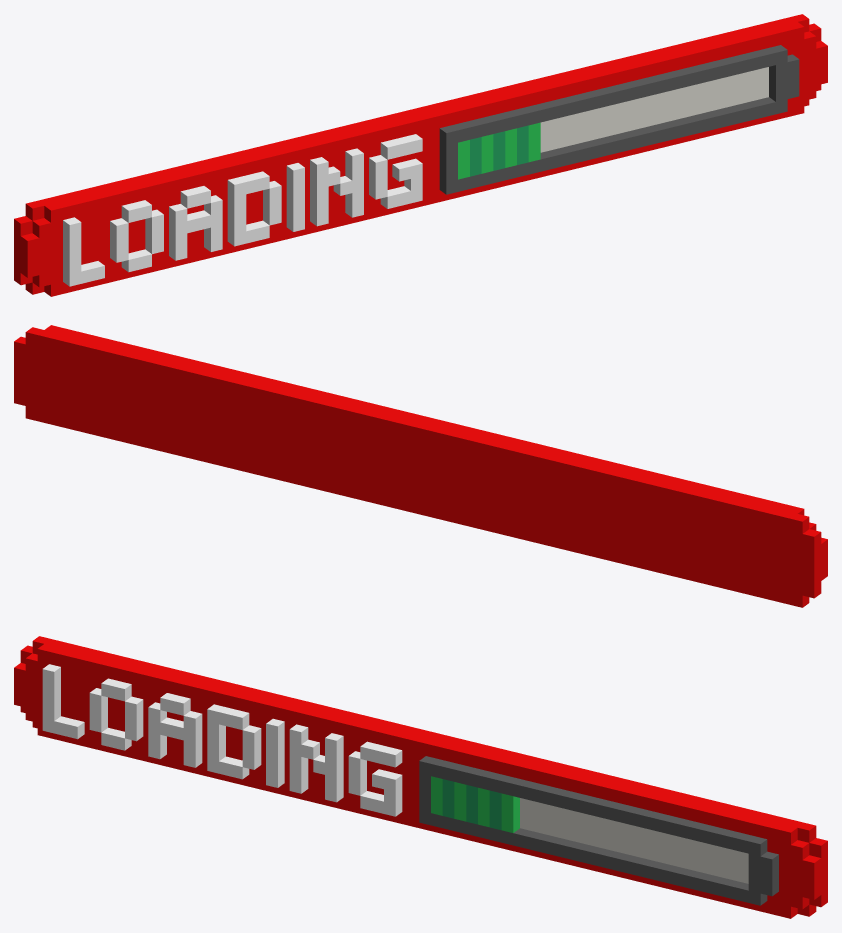
File: loading_3.obj
The picture shows the model from 3 angles, top to bottom: view 1: azimuth 30°, elevation 25°; view 2: azimuth 150°, elevation 25°; view 3: azimuth 330°, elevation 25°; orthographic projection.
Visible parts, largest first — view 1: loading_3; view 2: loading_3; view 3: loading_3.
Part boxes in pixels (x1,y1,x2,y2): loading_3: [14, 14, 827, 296]; loading_3: [14, 325, 827, 607]; loading_3: [14, 636, 827, 918].
Bounding box in the file's own units: 68 × 7 × 3.
Materials: 1 (1 with a texture image).
